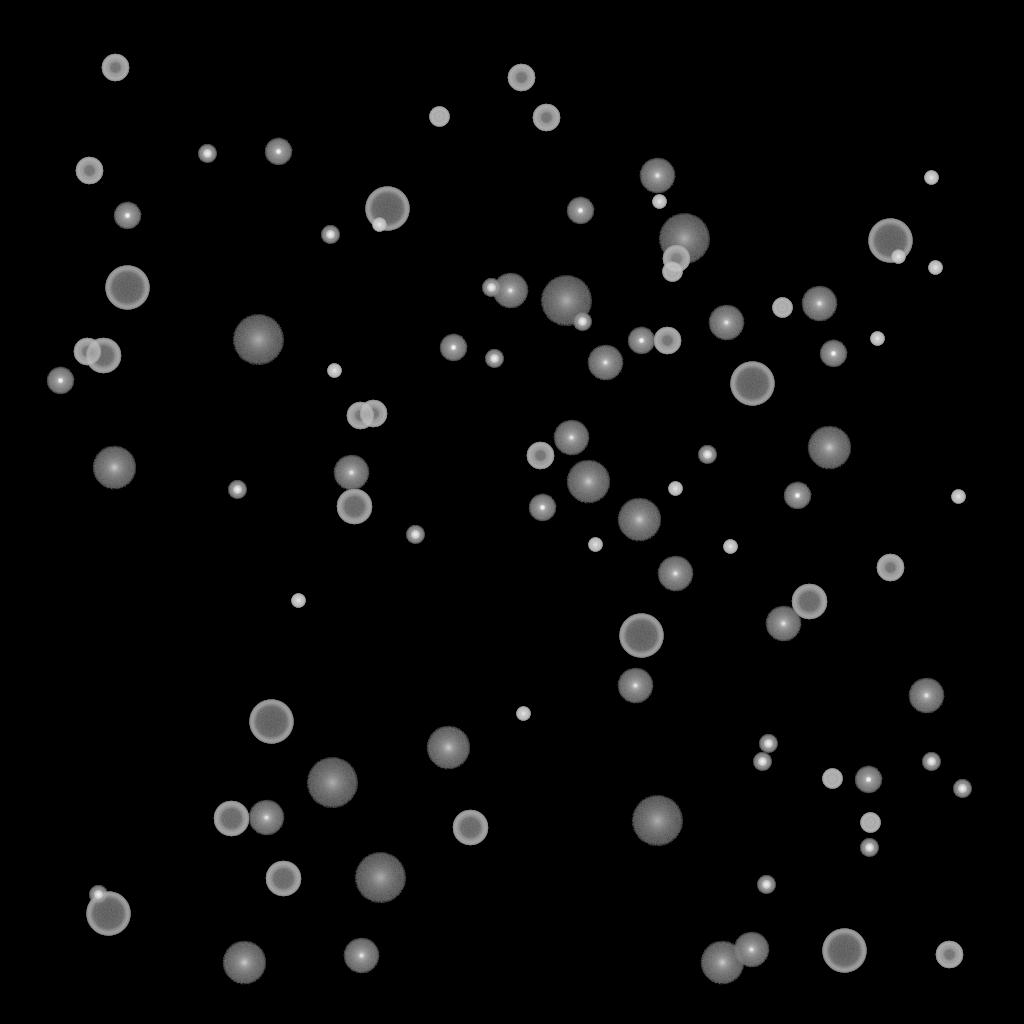depth:-10: (264, 138, 292, 166), (566, 197, 594, 225), (627, 327, 655, 355), (113, 202, 141, 230), (819, 340, 847, 368), (528, 494, 556, 522), (439, 334, 467, 362), (783, 482, 811, 510), (46, 367, 74, 395), (854, 766, 882, 794)
depth:-20: (922, 753, 940, 771), (485, 350, 503, 368), (198, 145, 216, 163), (759, 735, 777, 753), (406, 526, 424, 544), (698, 446, 716, 464), (573, 313, 591, 331), (482, 279, 500, 297), (860, 839, 878, 857), (953, 780, 971, 798), (753, 753, 771, 771), (228, 481, 246, 499), (757, 876, 775, 894), (89, 886, 107, 904), (321, 226, 339, 244)
depth:-30: (291, 594, 305, 608), (668, 482, 682, 496), (723, 540, 737, 554), (372, 218, 386, 232), (327, 364, 341, 378), (516, 707, 530, 721), (951, 490, 965, 504), (924, 171, 938, 185), (891, 250, 905, 264), (588, 538, 602, 552), (652, 195, 666, 209), (928, 261, 942, 275), (870, 332, 884, 346)
depth:-40: (822, 769, 842, 789), (772, 298, 792, 318), (860, 813, 880, 833), (662, 262, 682, 282), (429, 107, 449, 127)
depth:-50: (876, 554, 904, 582), (507, 64, 535, 92), (526, 442, 554, 470), (662, 245, 690, 273), (346, 402, 374, 430), (653, 327, 681, 355), (101, 54, 129, 82), (359, 400, 387, 428), (935, 941, 963, 969), (75, 157, 103, 185), (532, 104, 560, 132), (73, 338, 101, 366)
depth:-60: (452, 810, 488, 846), (265, 861, 301, 897), (336, 489, 372, 525), (85, 338, 121, 374), (213, 801, 249, 837), (791, 584, 827, 620)
depth:-70: (249, 700, 293, 744), (365, 187, 409, 231), (619, 614, 663, 658), (822, 929, 866, 973), (86, 892, 130, 936), (105, 266, 149, 310), (730, 362, 774, 406), (868, 219, 912, 263)
depth:0: (733, 932, 769, 968), (708, 305, 744, 341), (908, 678, 944, 714), (617, 668, 653, 704), (343, 938, 379, 974), (657, 556, 693, 592), (587, 345, 623, 381), (639, 158, 675, 194), (492, 273, 528, 309), (765, 606, 801, 642), (801, 286, 837, 322), (333, 455, 369, 491), (553, 420, 589, 456), (248, 800, 284, 836)
depth:10: (807, 426, 851, 470), (222, 941, 266, 985), (426, 726, 470, 770), (617, 498, 661, 542), (566, 460, 610, 504), (700, 941, 744, 985), (92, 446, 136, 490)
depth:20: (540, 276, 592, 326), (658, 214, 710, 264), (306, 758, 358, 808), (631, 796, 683, 846), (232, 315, 284, 365), (354, 853, 406, 903)
